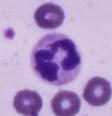N: (29, 31, 84, 86)
